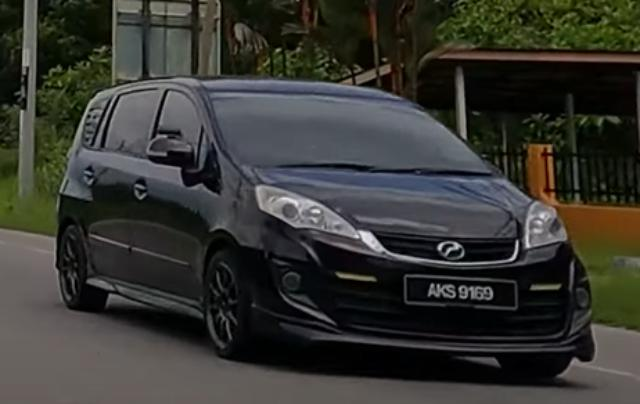License_Plate: (403, 273, 519, 313)
car: (54, 75, 597, 382)
